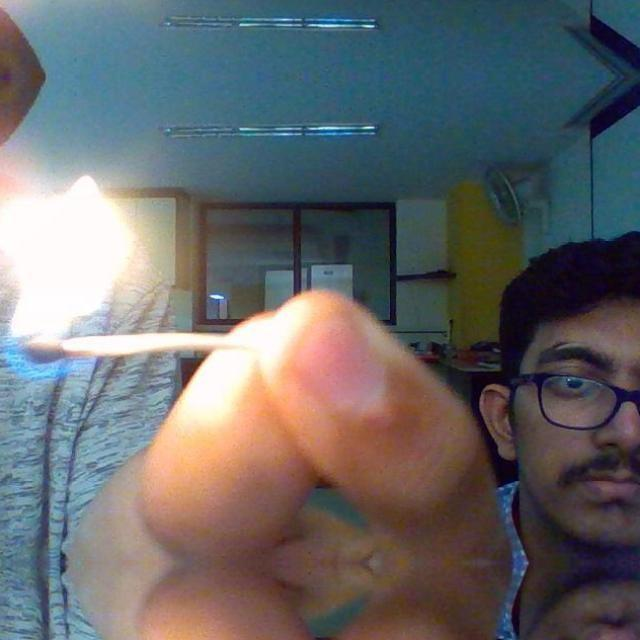smoke: (0, 172, 135, 383)
